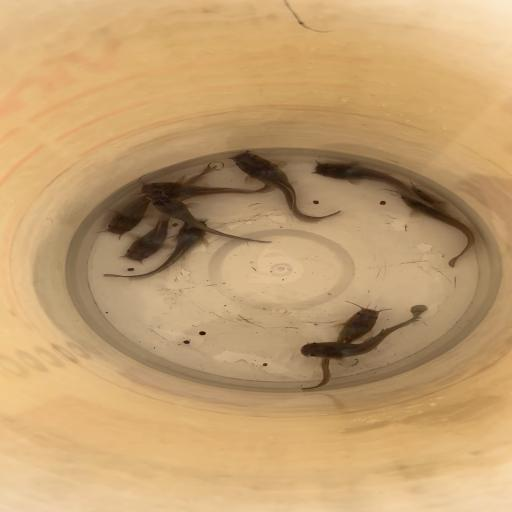lele: (93, 164, 220, 238), (227, 148, 342, 224), (300, 299, 392, 391), (292, 304, 430, 361), (106, 218, 214, 288), (308, 160, 451, 211), (141, 191, 274, 244), (394, 182, 475, 269), (121, 201, 197, 268), (132, 177, 282, 199)
